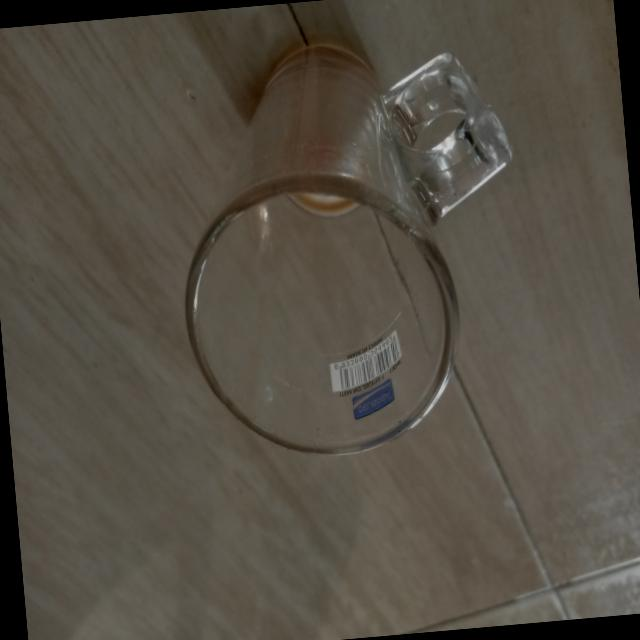glass-VX4N: (160, 2, 540, 470)
